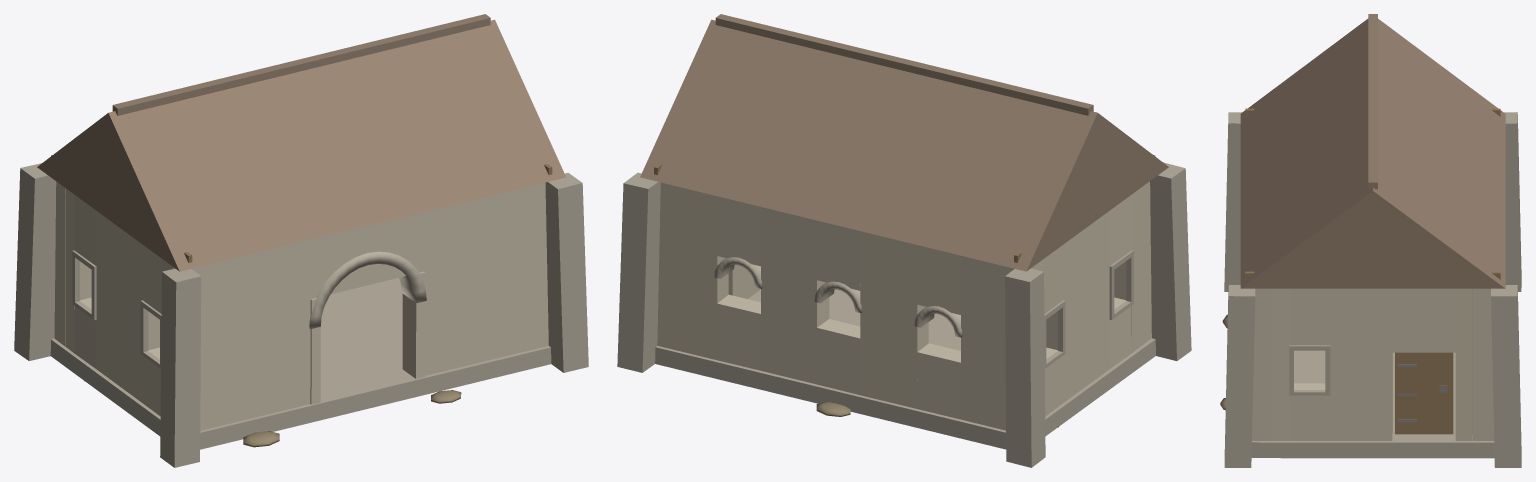
Rendered from parish_nave_shell.glb.
3 views of the same model, side by side, from view 1: azimuth 30°, elevation 25°; view 2: azimuth 150°, elevation 25°; view 3: azimuth 270°, elevation 25° (orthographic). The views are drawn at different scales.
Visible parts, largest first — view 1: Nave_Stone, Nave_RoofGroup, Nave_Mud; view 2: Nave_Stone, Nave_RoofGroup; view 3: Nave_RoofGroup, Nave_Stone, Nave_Wood.
Boxes of the visible parts, x1,y1,x2,y2 form: Nave_Stone: [14, 163, 588, 467]; Nave_RoofGroup: [37, 14, 565, 271]; Nave_Mud: [84, 378, 461, 447]; Nave_Stone: [617, 162, 1191, 467]; Nave_RoofGroup: [640, 14, 1168, 271]; Nave_RoofGroup: [1240, 14, 1505, 288]; Nave_Stone: [1224, 112, 1521, 467]; Nave_Wood: [1395, 352, 1453, 434].
Size of the model in its own units: 9.11 by 6.25 by 6.19.
